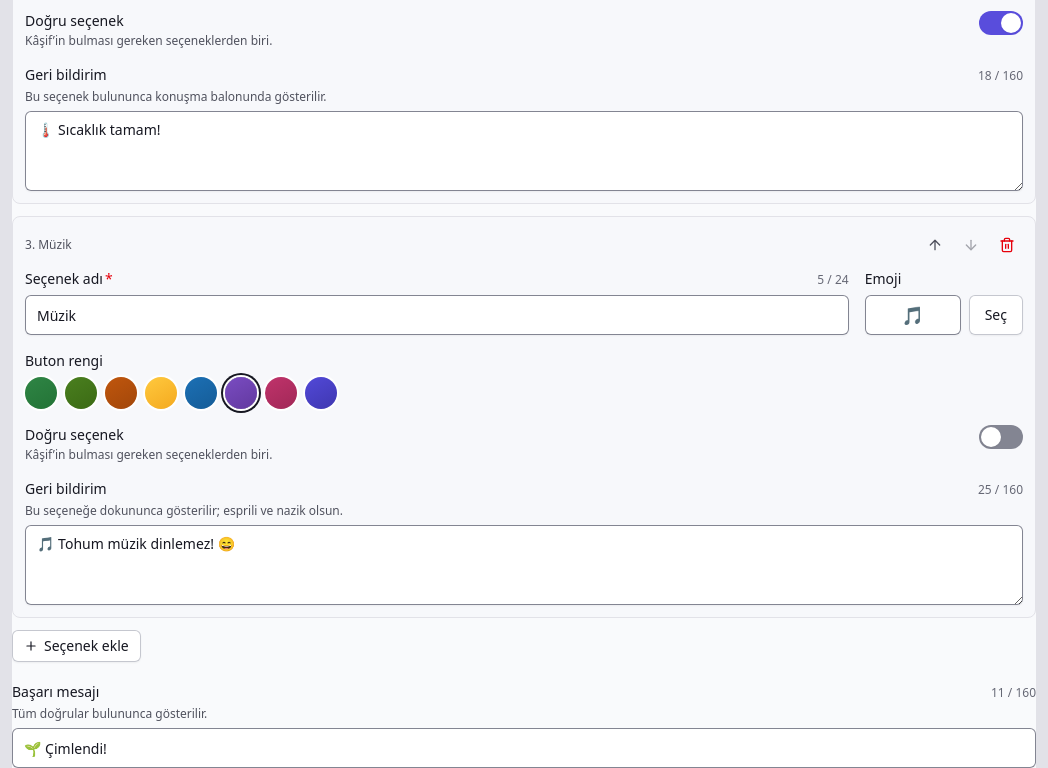
Test case: BlockFieldsEditor › choose-correct: adds items with fresh ids up to the schema maximum (6)
(page scrolled)
Click the button "Seçenek ekle" at (76, 646), box 12,630 -> 141,662
(page scrolled)
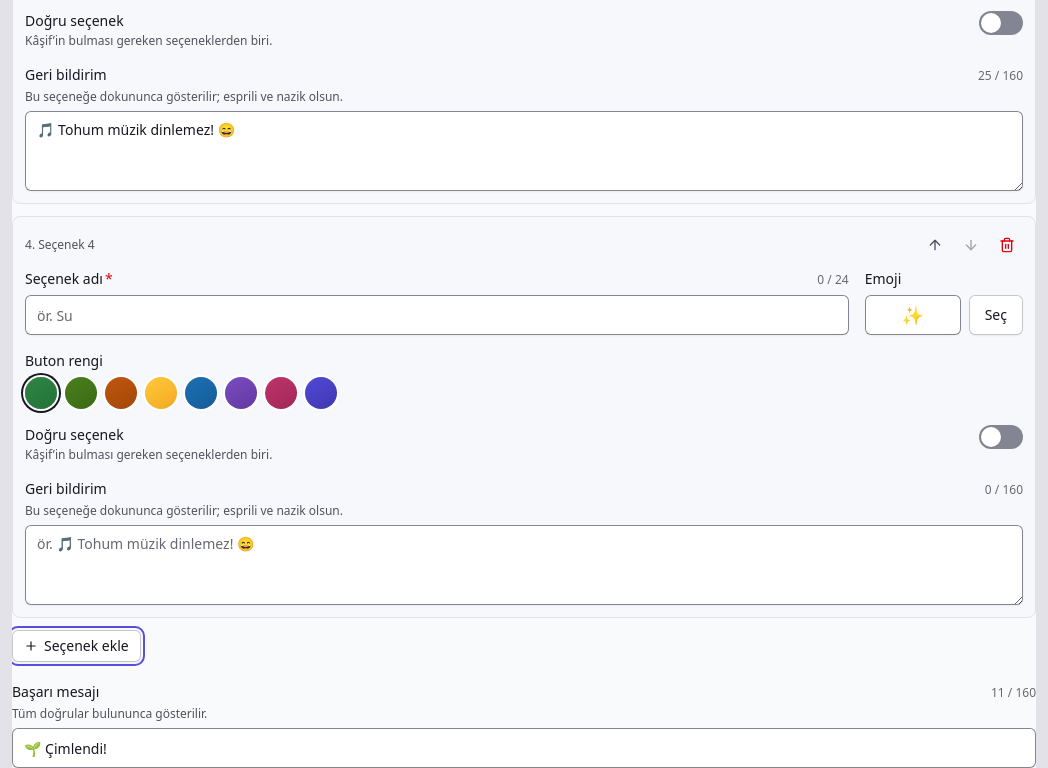
Click the button "Seçenek ekle" at (76, 646), box 12,630 -> 141,662
(page scrolled)
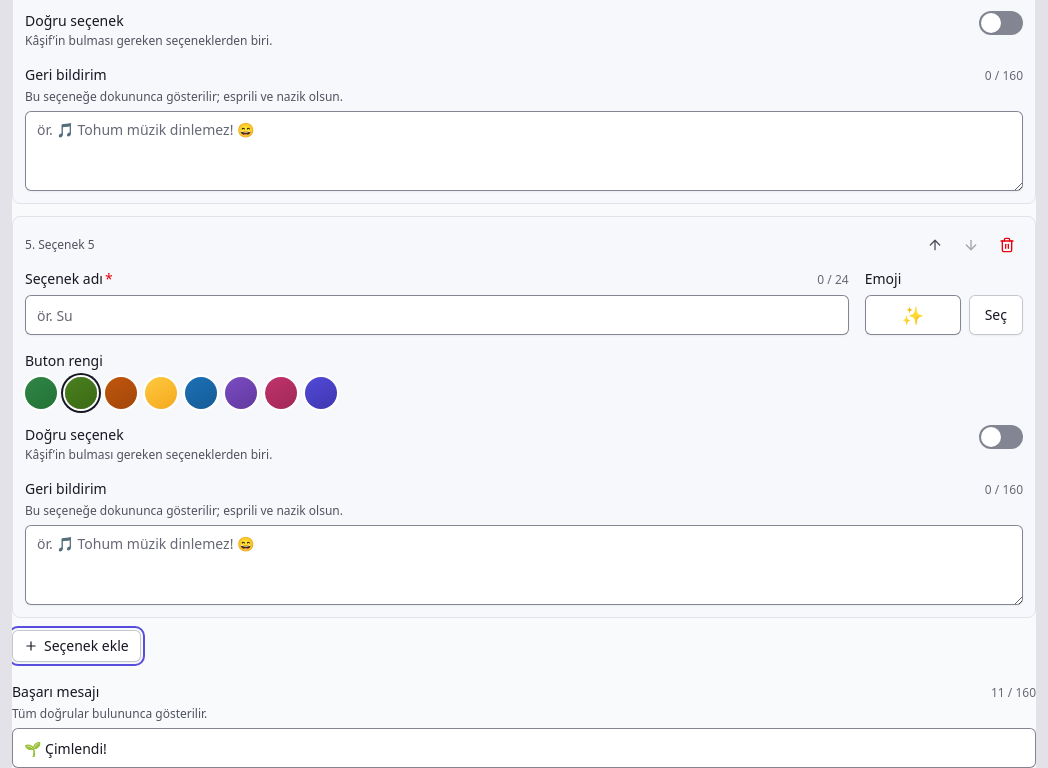
Click the button "Seçenek ekle" at (76, 646), box 12,630 -> 141,662
(page scrolled)
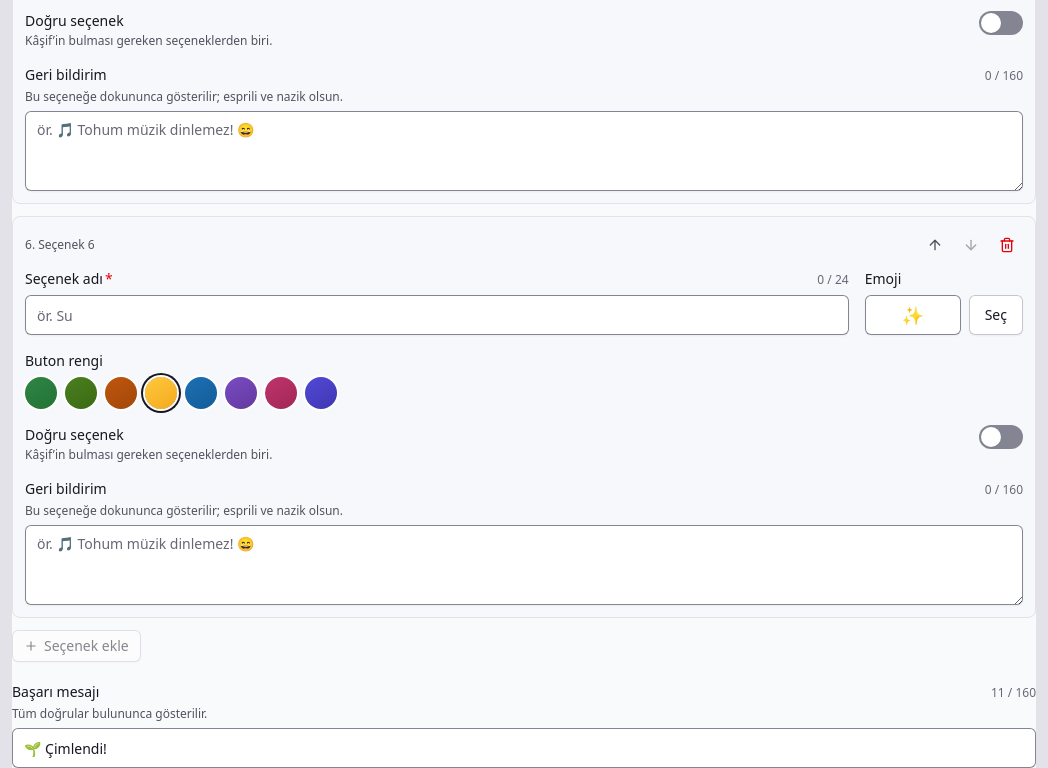
Check: the button "Seçenek ekle" is disabled, box 12,630 -> 141,662
